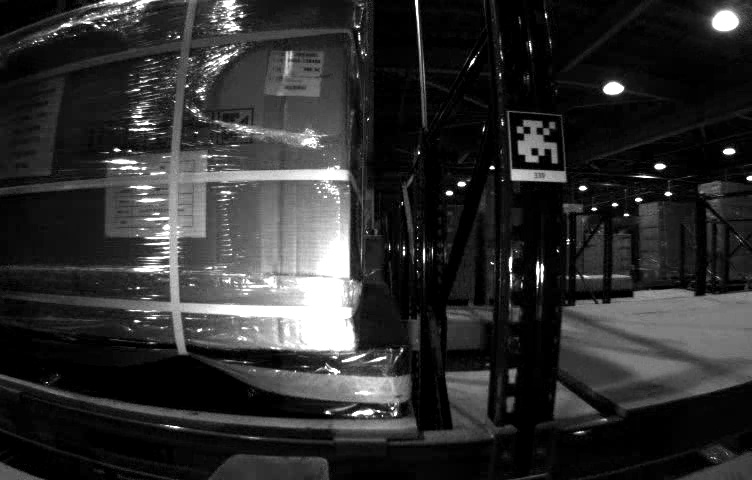True Barcode: (264, 49, 322, 96)
